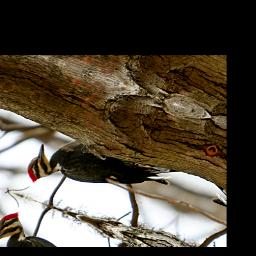Woodpecker: (21, 123, 181, 226)
